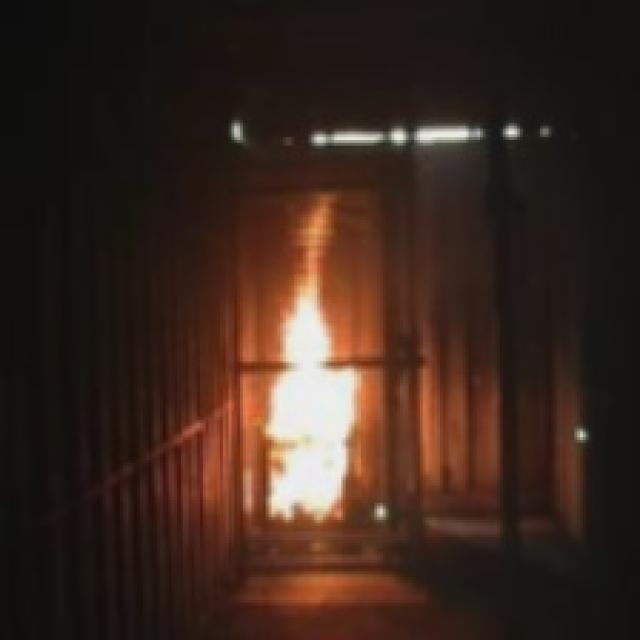fire: (247, 267, 373, 530)
